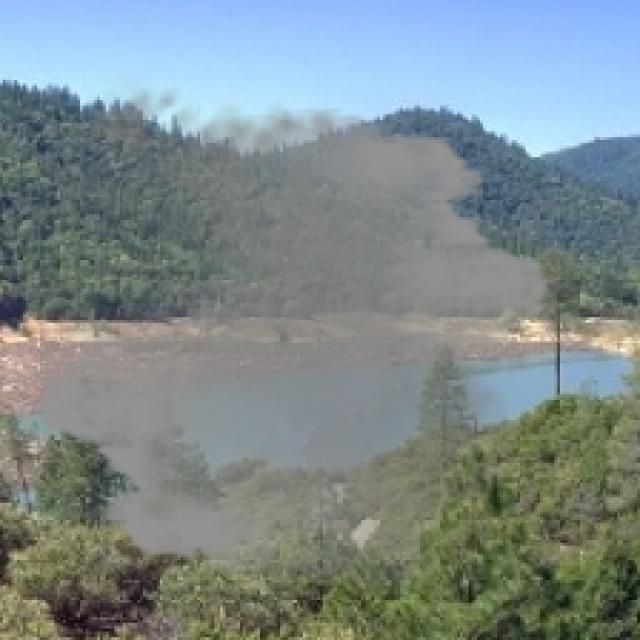Smoke: (20, 71, 566, 606)
